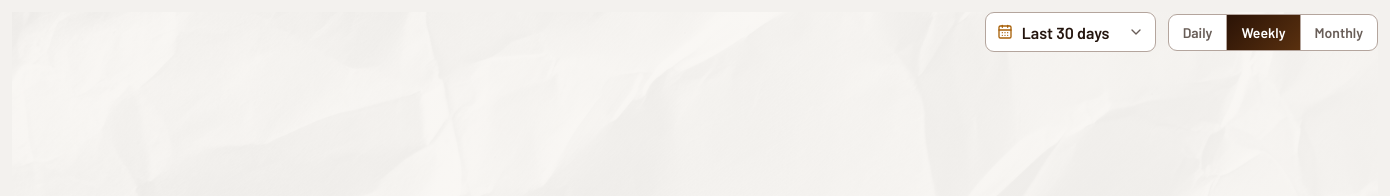
Test: historical dates can be entered starting with From without requesting an invalid range
Select "Custom dates" in the dropdown named "Date range" at (1070, 32), box [985, 12, 1156, 52]
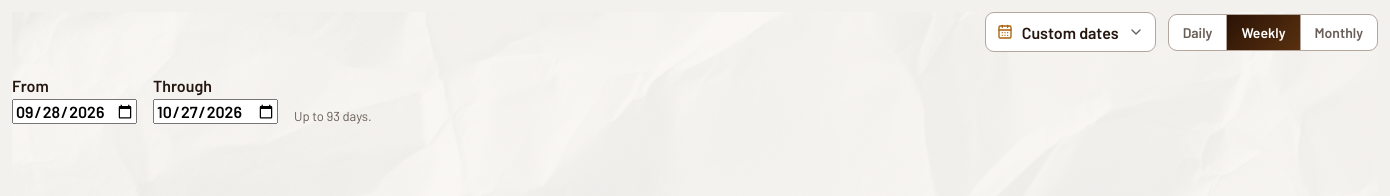
Type "2026-01-01" into the date field labelled "From" at (74, 112), box [12, 99, 137, 124]
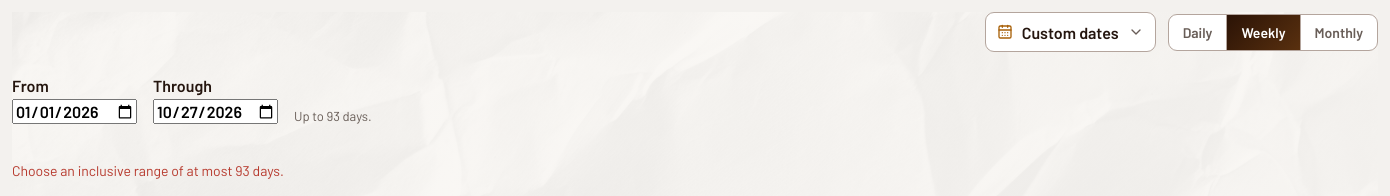
Result: the message shows "93 days" at [12, 162, 284, 179]
Type "2026-01-31" into the date field labelled "Through" at (216, 112), box [153, 99, 278, 124]
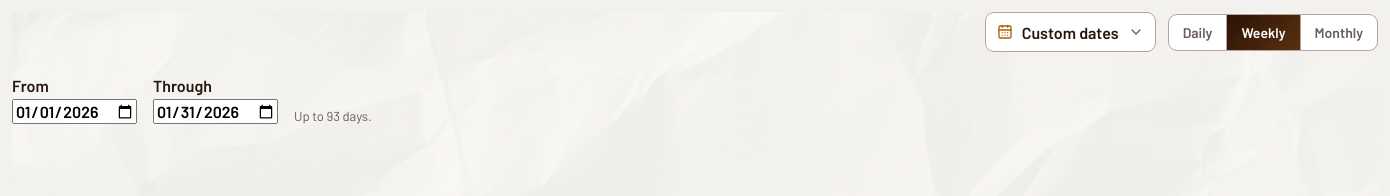
Result: the message "Choose an inclusive range of at most 93 days." is gone
Clear the date field labelled "From" at (74, 112), box [12, 99, 137, 124]
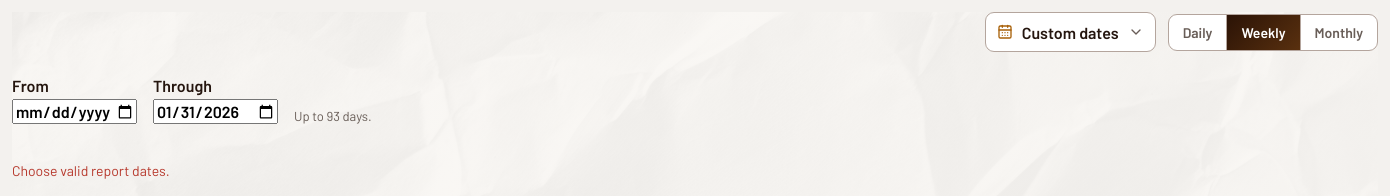
Select "This month" in the dropdown named "Date range" at (1070, 32), box [985, 12, 1156, 52]
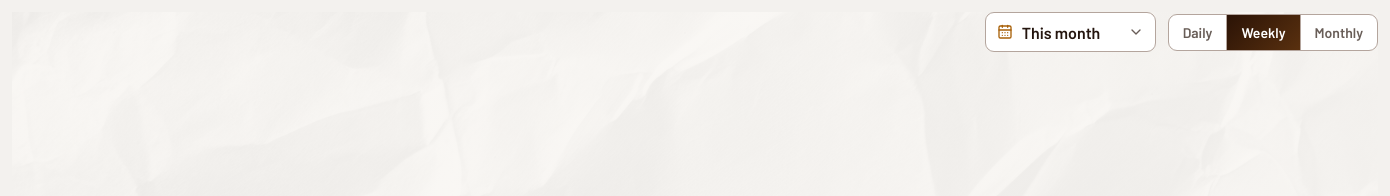
Select "Custom dates" in the dropdown named "Date range" at (1070, 32), box [985, 12, 1156, 52]
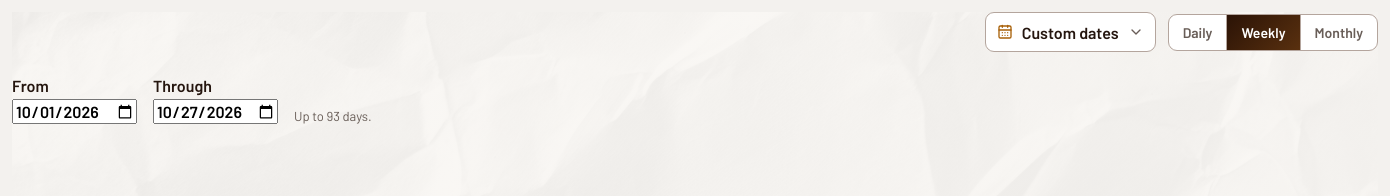
Expected: the message "Choose valid report dates." is not shown
Result: the date field labelled "From" holds "2026-10-01" at [12, 99, 137, 124]
